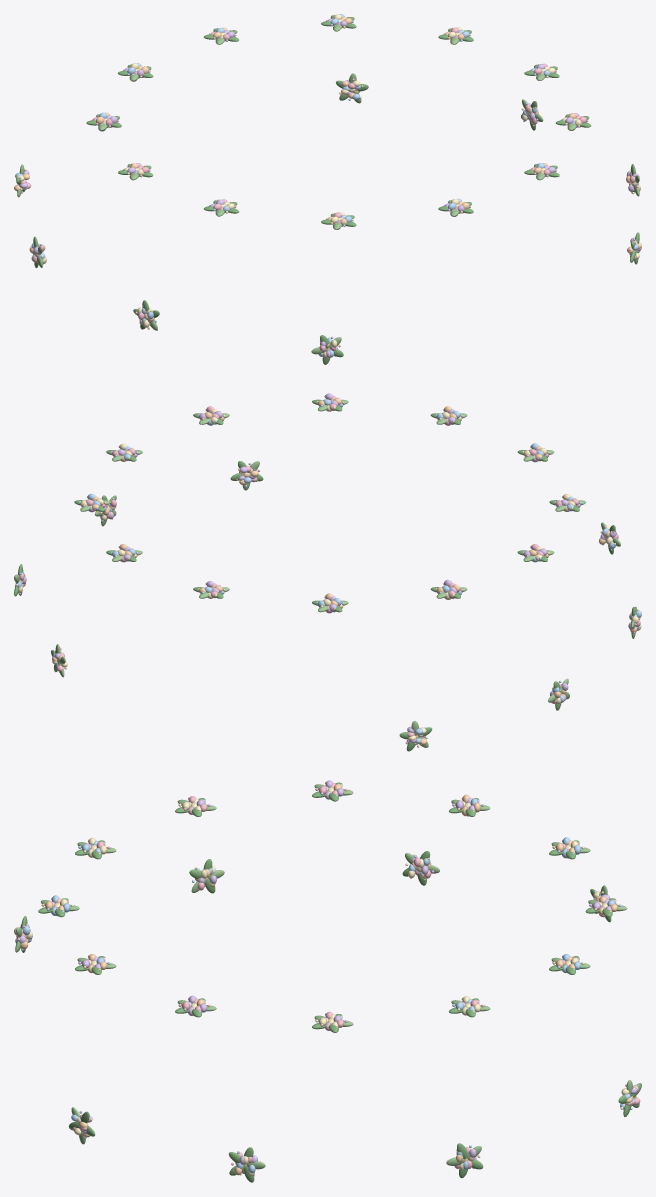
The model's file is atelier_upper_lower_flower.glb.
3 views of the same model, one above another, from view 1: azimuth 30°, elevation 25°; view 2: azimuth 150°, elevation 25°; view 3: azimuth 270°, elevation 25° (orthographic). The views are drawn at different scales.
Bounding box in the file's own units: 20.99 × 4.43 × 18.35.
